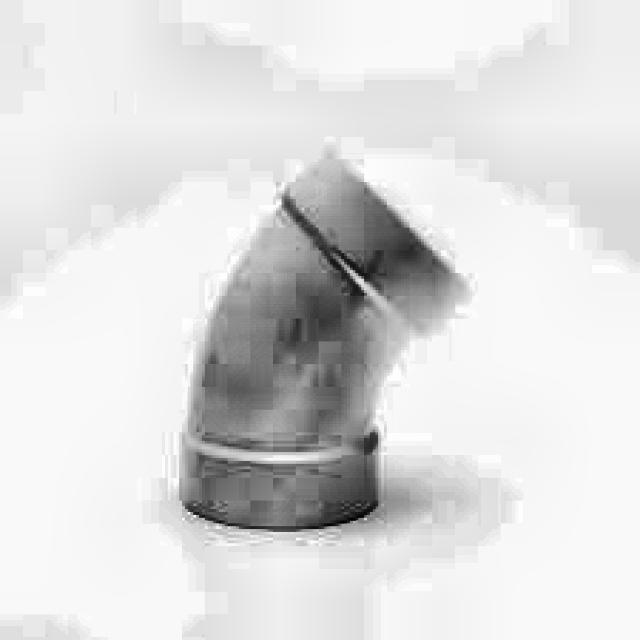ELBOW45: (176, 151, 469, 532)
